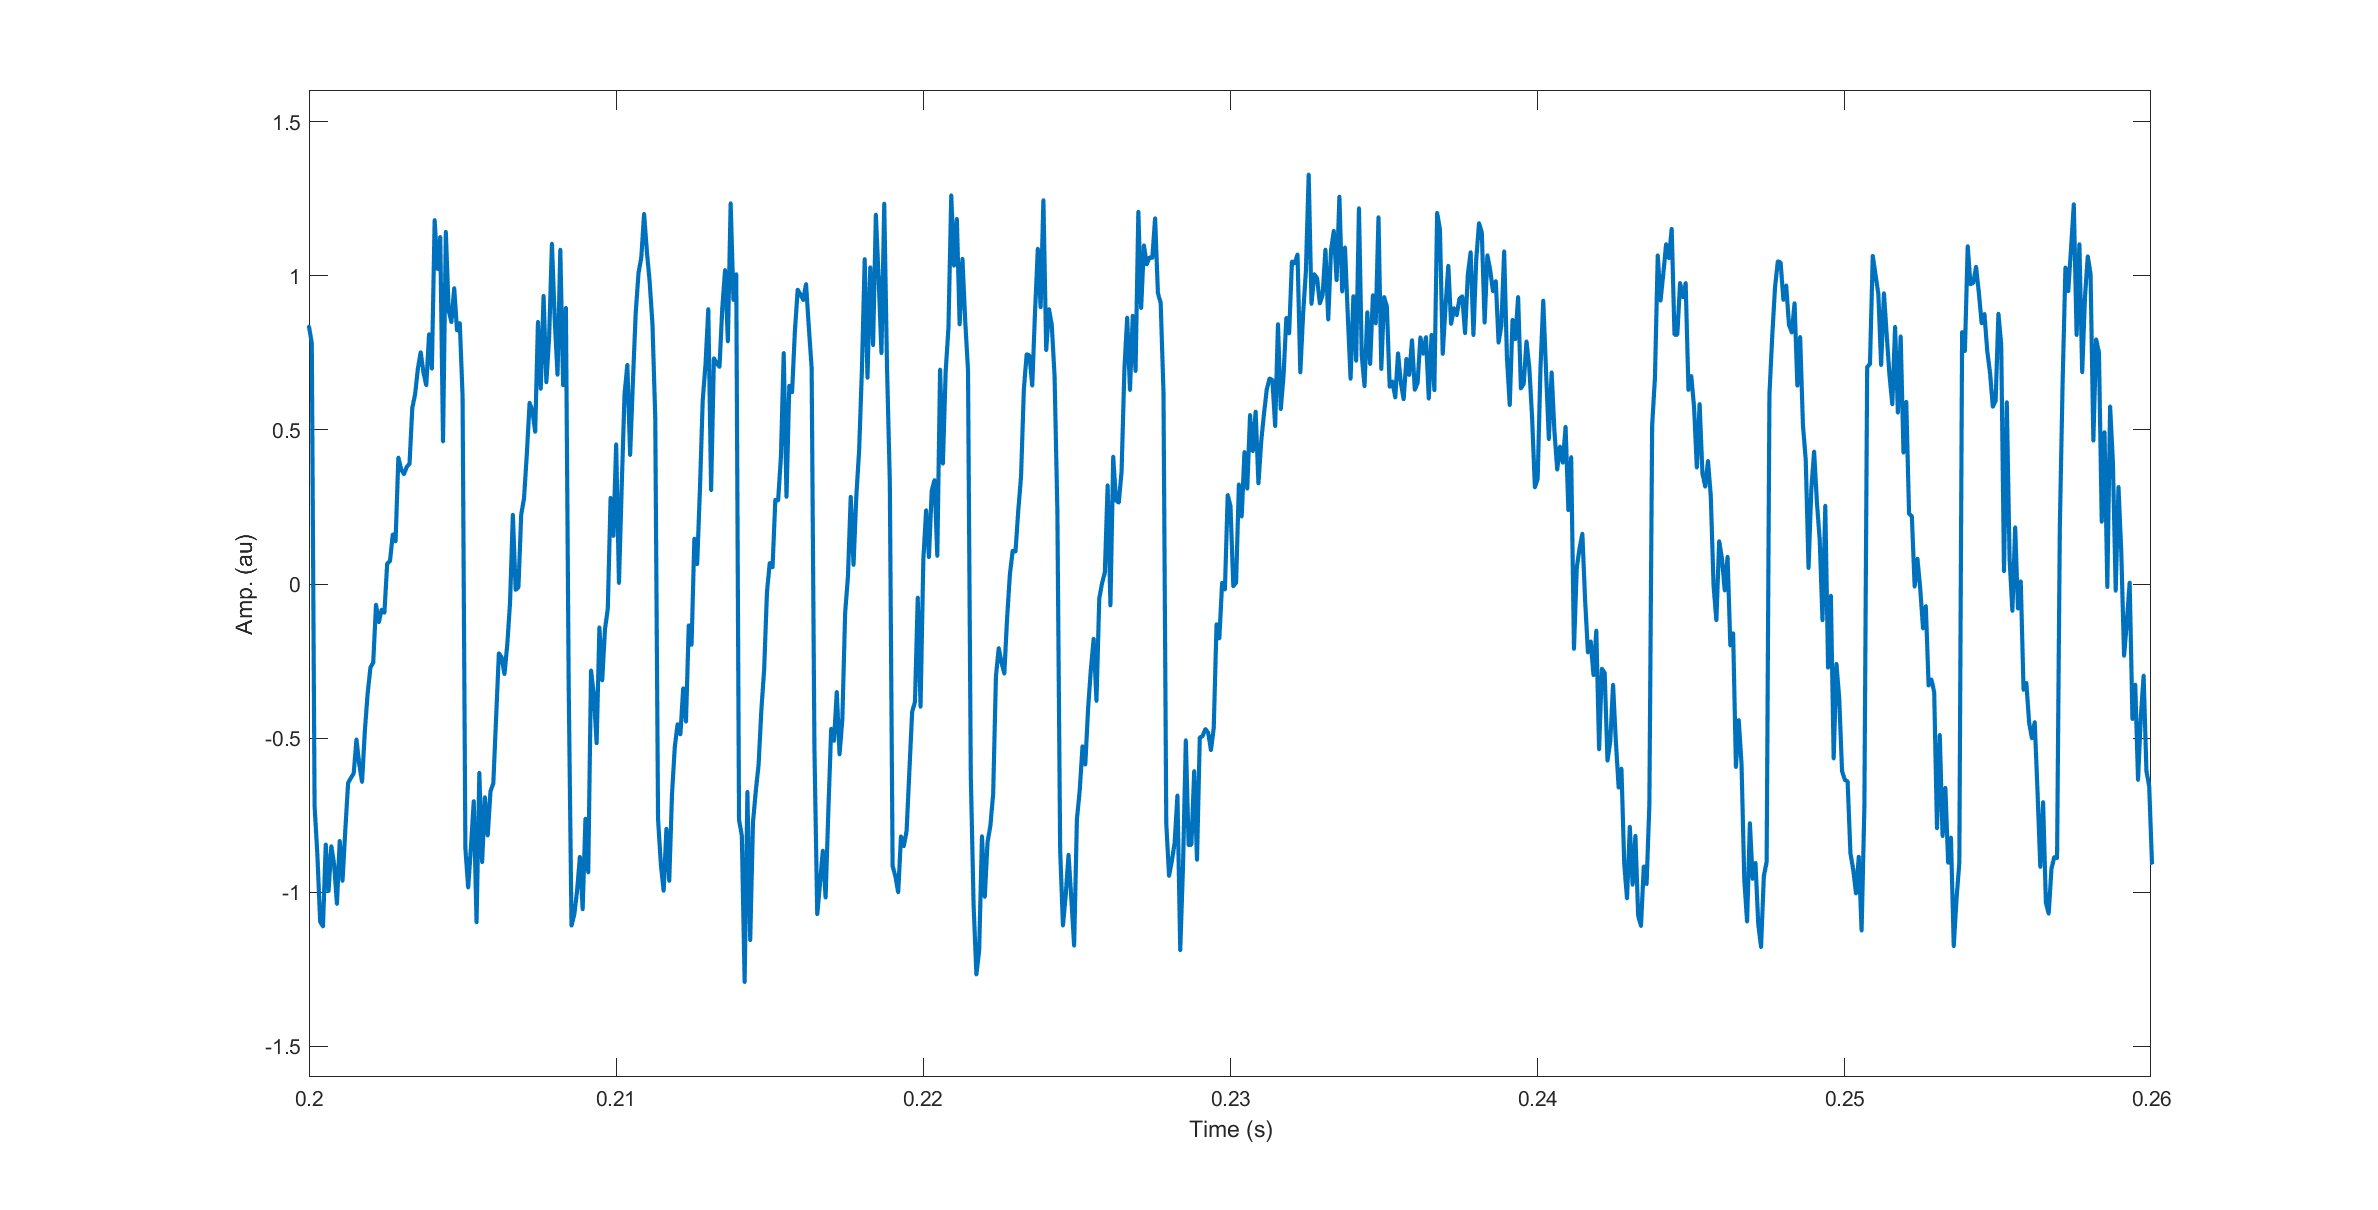negative_fringe: (1630, 218, 1755, 948), (2048, 198, 2140, 911), (1951, 236, 2039, 960), (1758, 242, 1850, 929), (1853, 242, 1941, 946)
positive_fringe: (323, 205, 474, 928), (475, 227, 586, 943), (1079, 196, 1181, 955), (671, 193, 755, 991), (980, 191, 1065, 974), (818, 188, 900, 898), (588, 204, 667, 929), (906, 184, 977, 889), (750, 262, 819, 897)
